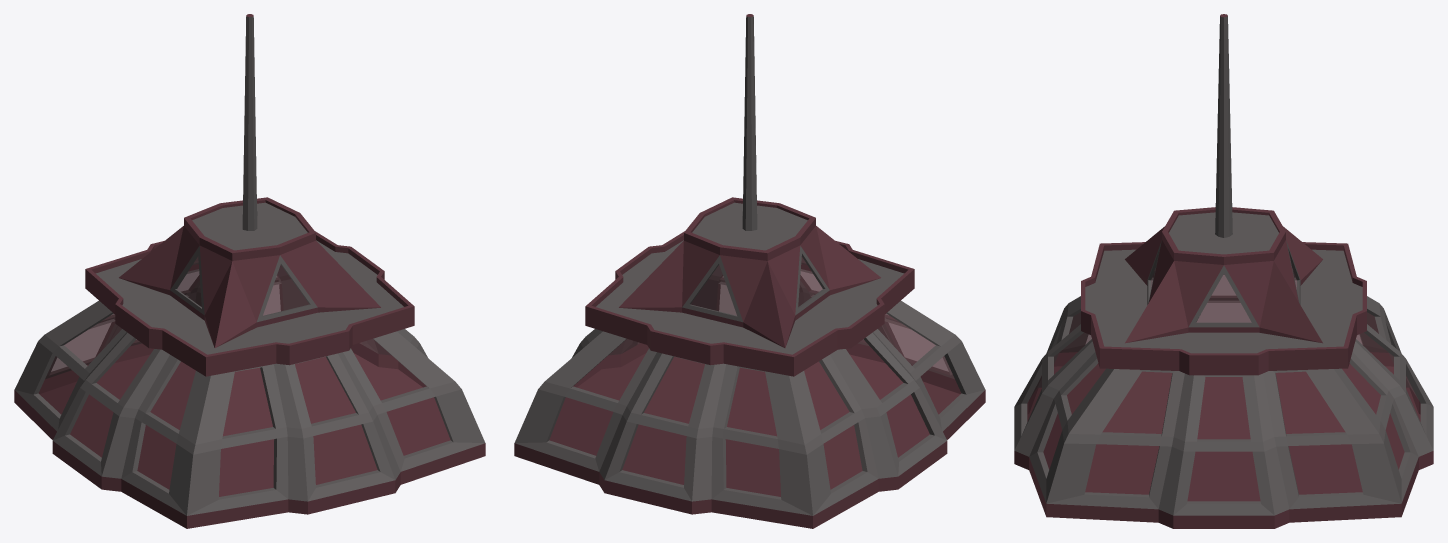
File: skyscraper2-part-top.fbx
3 renders of one model, left to right at view 1: azimuth 30°, elevation 25°; view 2: azimuth 150°, elevation 25°; view 3: azimuth 270°, elevation 25°, orthographic. The views are drawn at different scales.
Parts seen in each view (by area): view 1: skyscraper2-part-top; view 2: skyscraper2-part-top; view 3: skyscraper2-part-top.
Part boxes in pixels (x1,y1,x2,y2): skyscraper2-part-top: (14,14,485,528); skyscraper2-part-top: (514,14,985,528); skyscraper2-part-top: (1014,14,1433,528).
Bounding box in the file's own units: 13.92 × 15.92 × 14.19.
